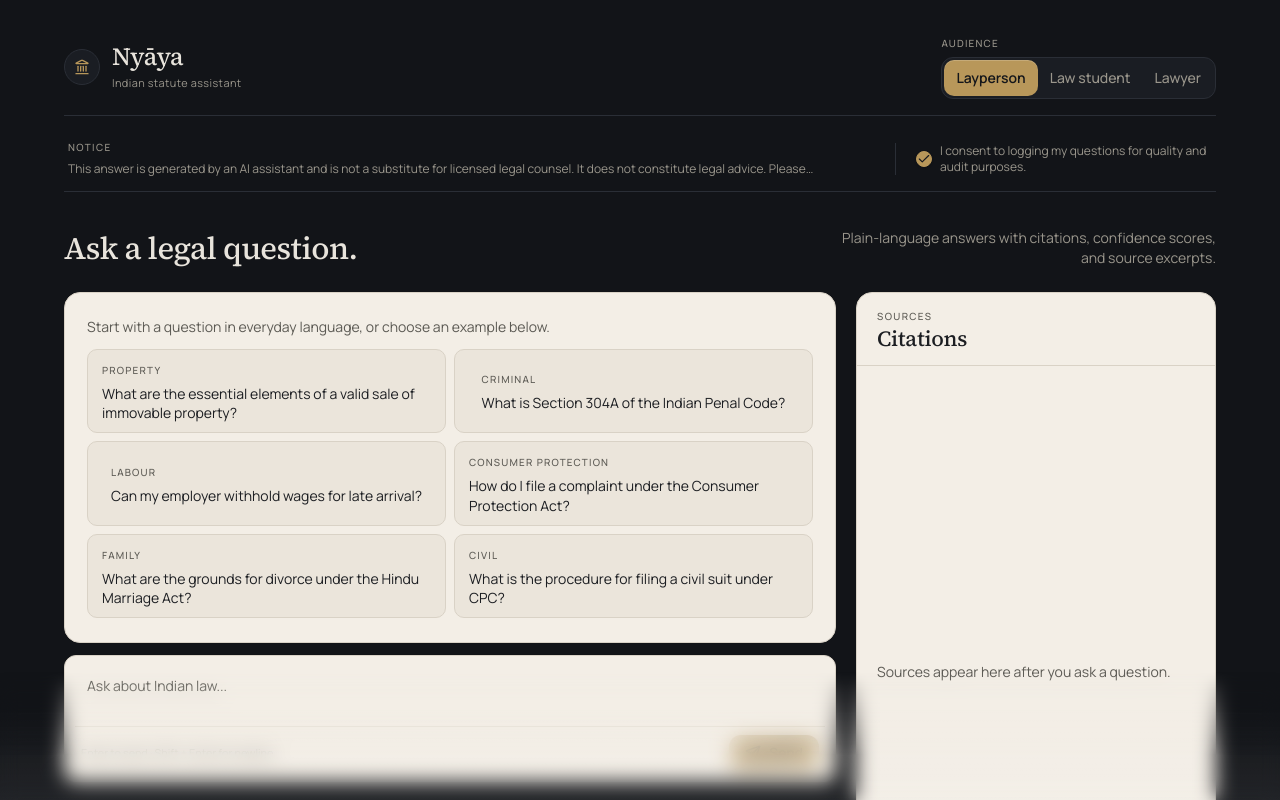
Test: ChatWindow consent wiring › reflects unchecked consent in the stub outgoing payload
Step 1. Click the checkbox with test id "consent-checkbox" → (924, 159), box [916, 151, 932, 167]
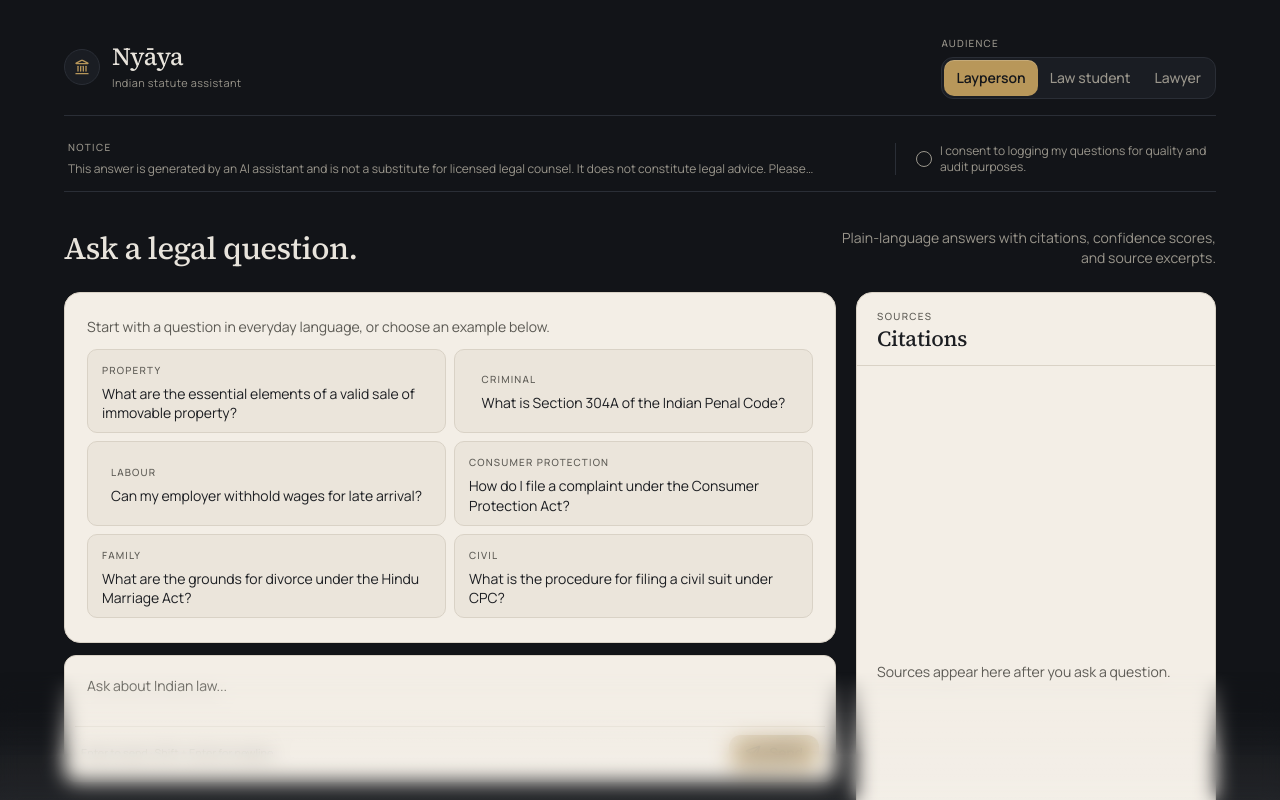
Step 2. Type "What is bail?" into the text box named "Your message" → (450, 694), box [75, 666, 825, 722]
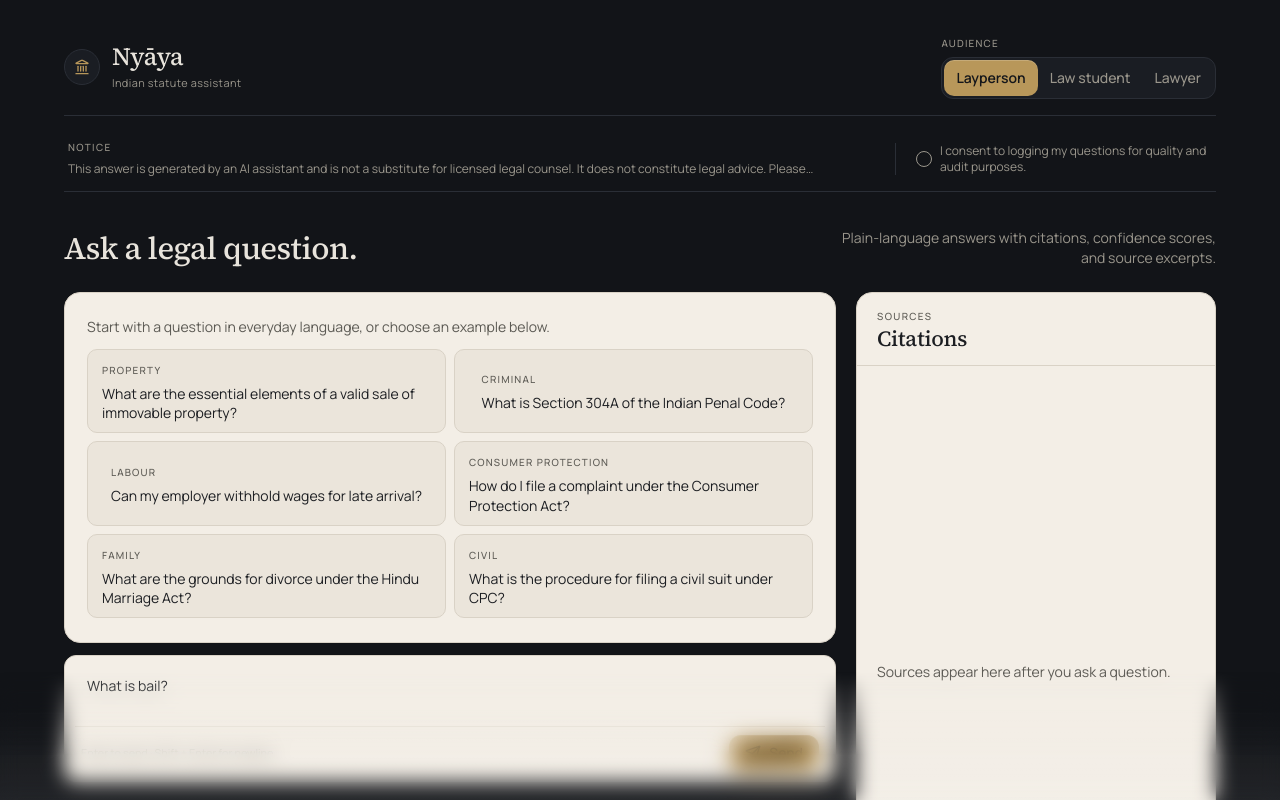
Step 3. Click the button "Send" → (774, 753), box [729, 735, 819, 771]
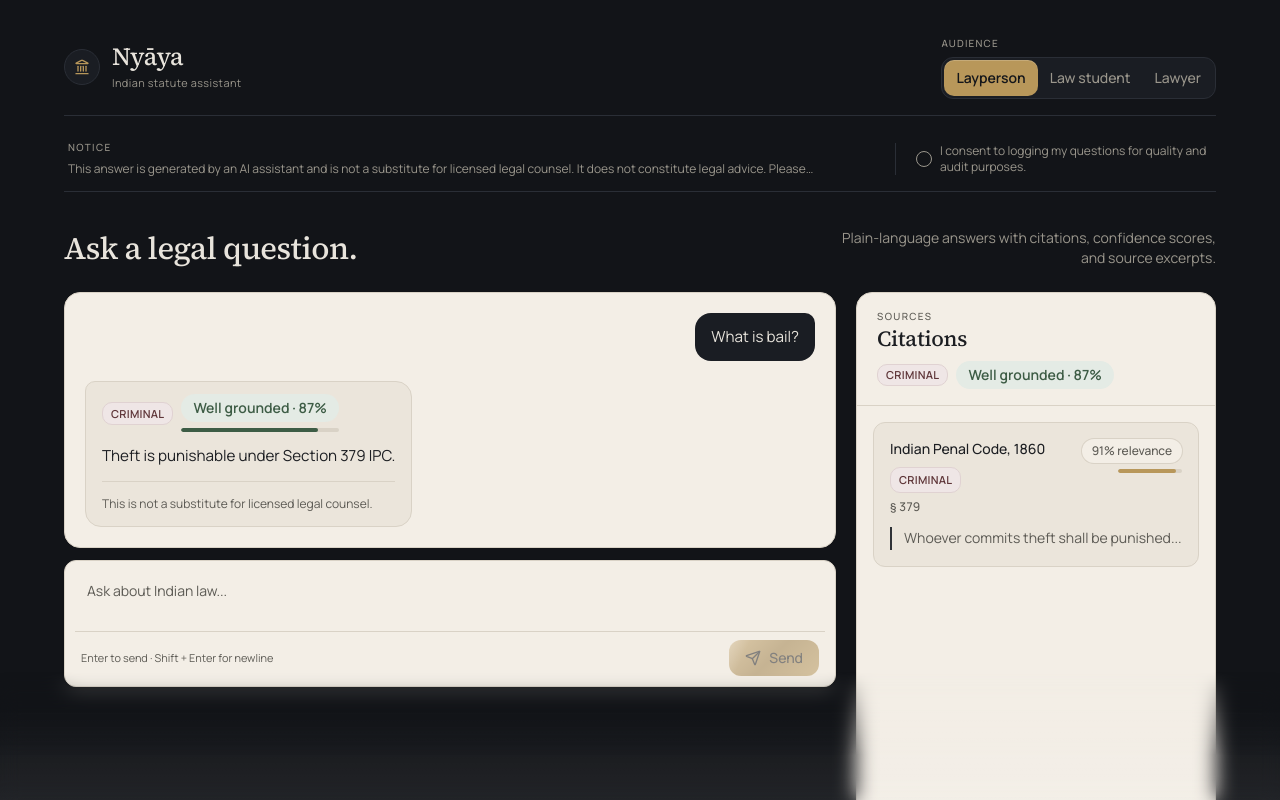
Expected: the text "What is bail?" is shown, [711, 325, 799, 350]
